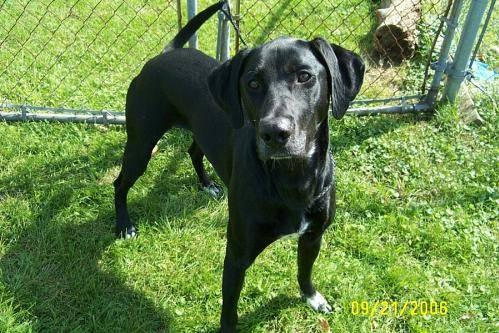dog: (112, 37, 367, 333)
